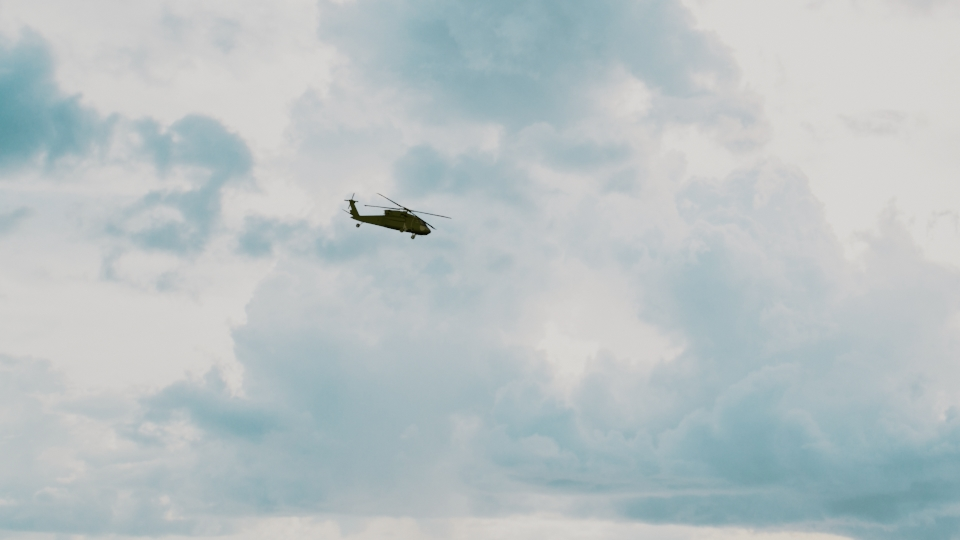heli: (343, 194, 450, 241)
